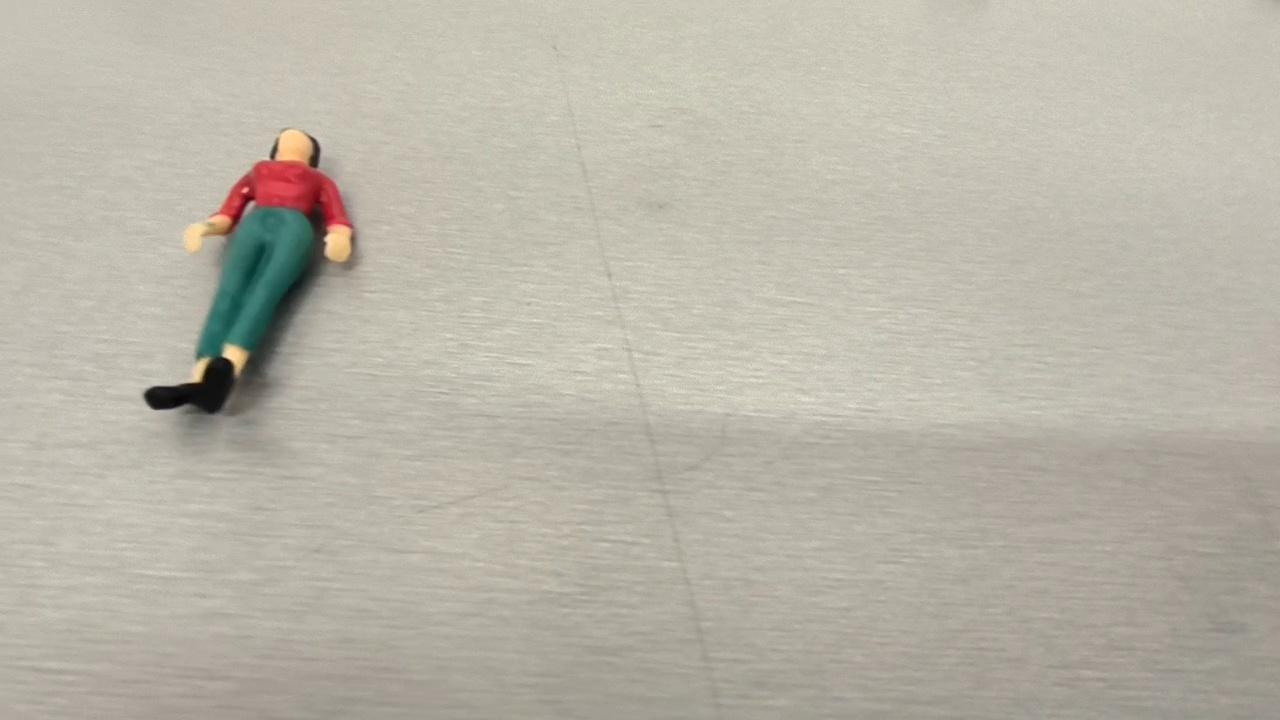human: (142, 127, 358, 413)
